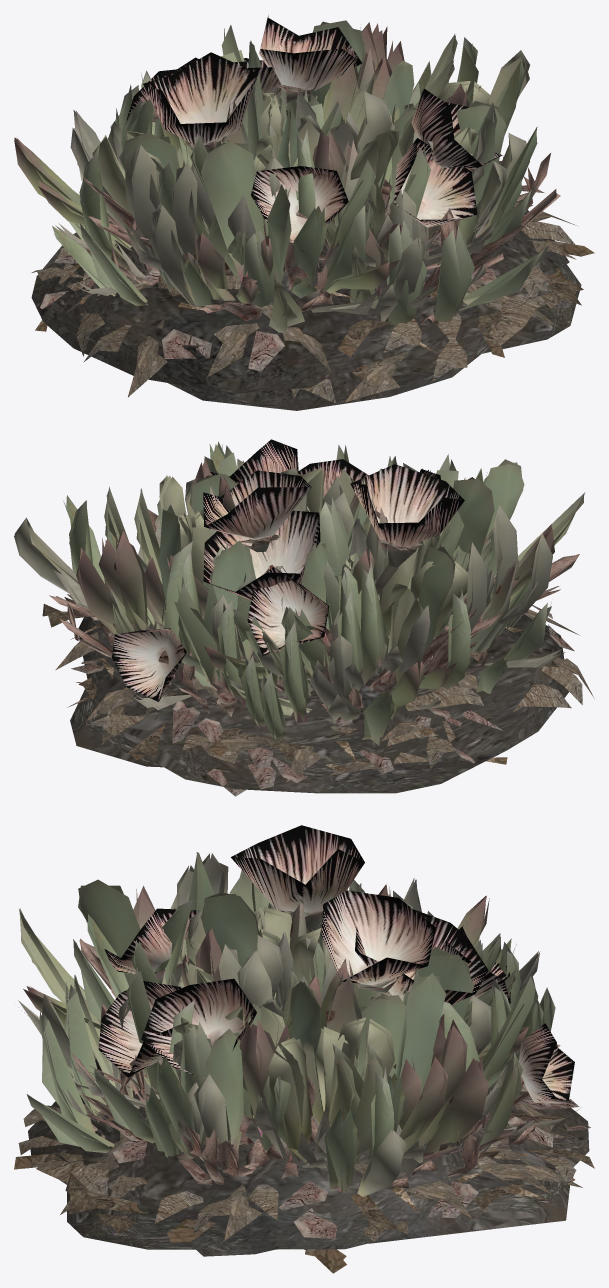
Rendered from succulent.glb.
The picture shows the model from 3 angles, top to bottom: view 1: azimuth 30°, elevation 25°; view 2: azimuth 150°, elevation 25°; view 3: azimuth 270°, elevation 25°; orthographic projection. The views are drawn at different scales.
Visible parts, largest first — view 1: succulent_v1_lod0, succulent_v0_lod0, succulent_v2_lod0; view 2: succulent_v0_lod0, succulent_v1_lod0, succulent_v2_lod0; view 3: succulent_v1_lod0, succulent_v0_lod0, succulent_v2_lod0.
Boxes of the visible parts, <box> form: succulent_v1_lod0: <box>31,20,583,397</box>; succulent_v0_lod0: <box>14,15,560,410</box>; succulent_v2_lod0: <box>53,47,594,315</box>; succulent_v0_lod0: <box>53,445,531,783</box>; succulent_v1_lod0: <box>14,441,594,796</box>; succulent_v2_lod0: <box>133,439,520,781</box>; succulent_v1_lod0: <box>18,852,590,1249</box>; succulent_v0_lod0: <box>14,880,594,1273</box>; succulent_v2_lod0: <box>87,825,540,1266</box>.
Size of what is drawn, in the model's own units: 0.5892 by 0.2718 by 0.5268.
2 materials, 2 textured.
